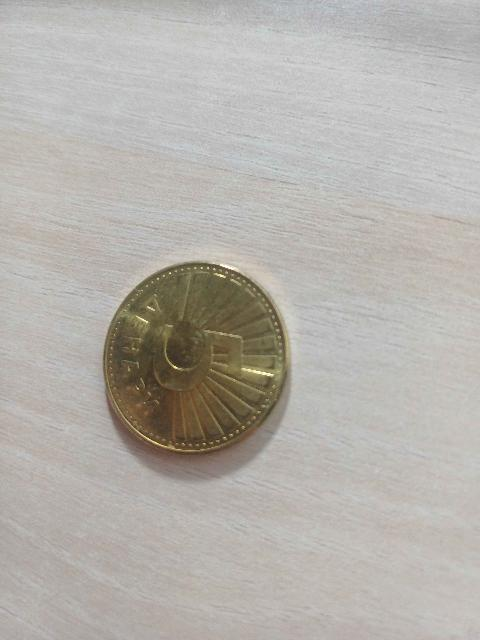5_coin: (104, 262, 288, 453)
